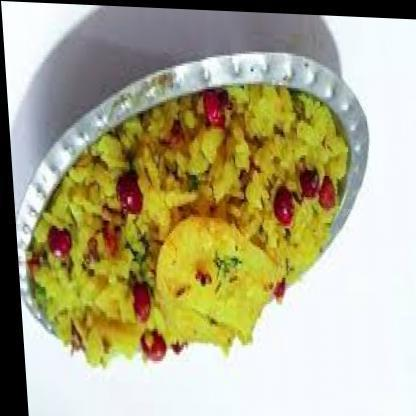poha: (12, 72, 358, 376)
